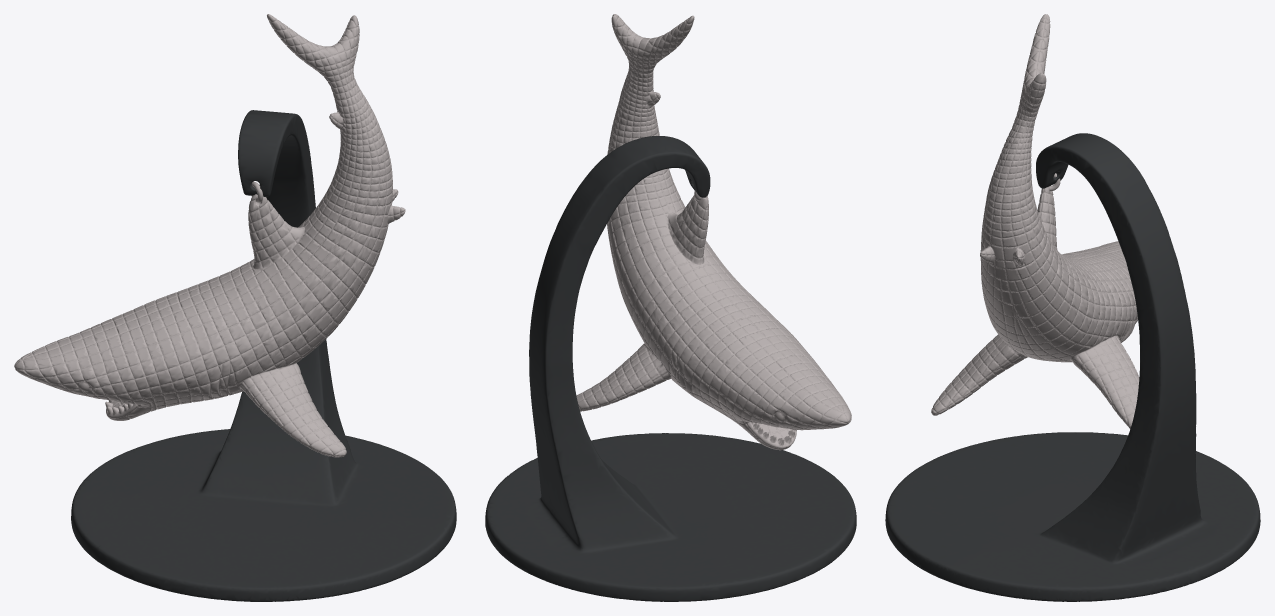
Rendered from shark.glb.
3 renders of one model, left to right at view 1: azimuth 30°, elevation 25°; view 2: azimuth 150°, elevation 25°; view 3: azimuth 270°, elevation 25°, orthographic. The views are drawn at different scales.
Visible parts, largest first — view 1: DiscoShark; view 2: DiscoShark; view 3: DiscoShark.
Boxes of the visible parts, x1=… form: DiscoShark: x1=14, y1=14, x2=456, y2=601; DiscoShark: x1=485, y1=14, x2=856, y2=601; DiscoShark: x1=885, y1=14, x2=1260, y2=601.
Bounding box in the file's own units: 1.32 × 1.71 × 1.15.
Materials: 2 (1 with a texture image).
